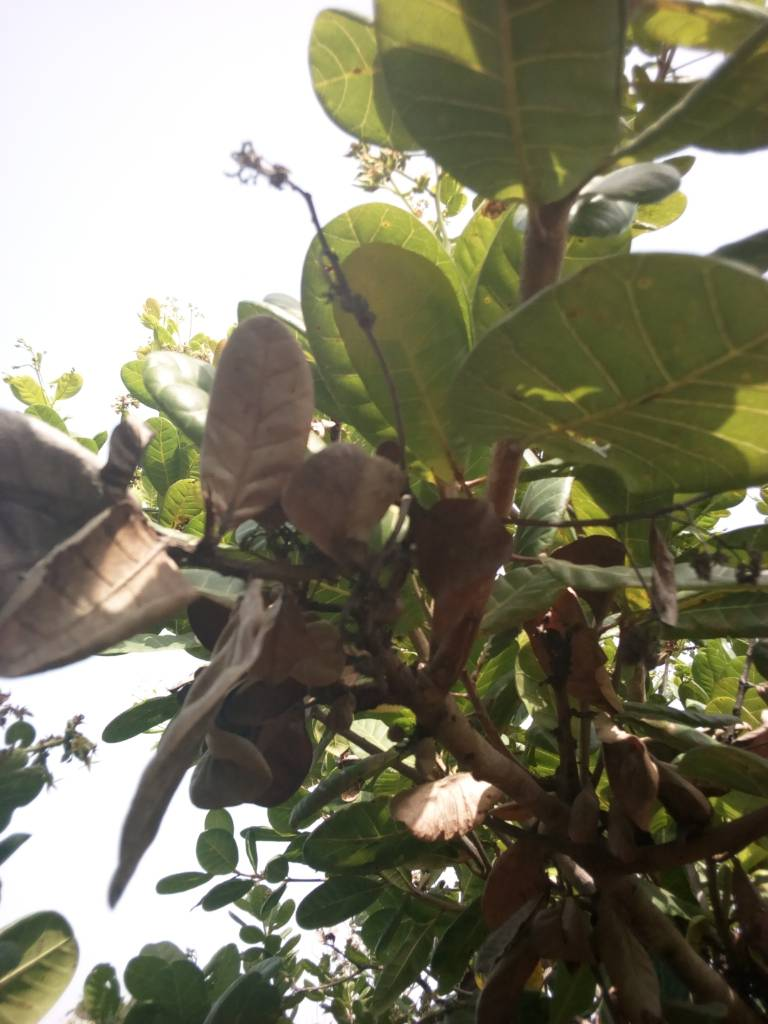Dessèchement des bourgeons: (221, 133, 374, 333)
